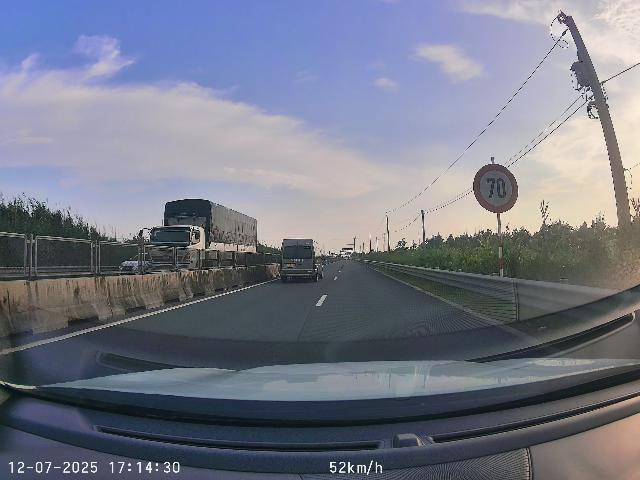127-toc-do-toi-da-70: (473, 164, 519, 214)
